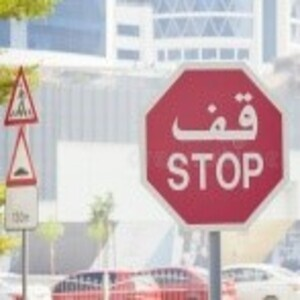stop: (142, 61, 287, 228)
